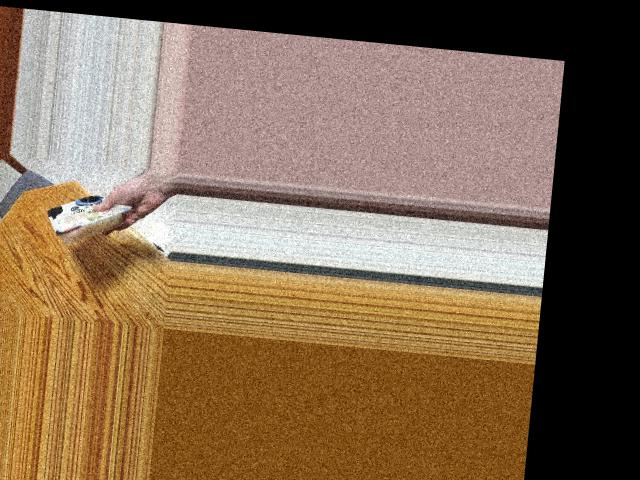cheese: (48, 178, 121, 248)
